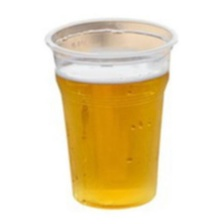glass: (40, 10, 182, 213)
